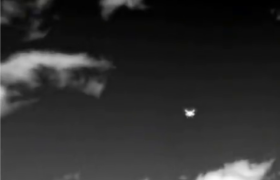Target: (185, 109, 194, 116)
